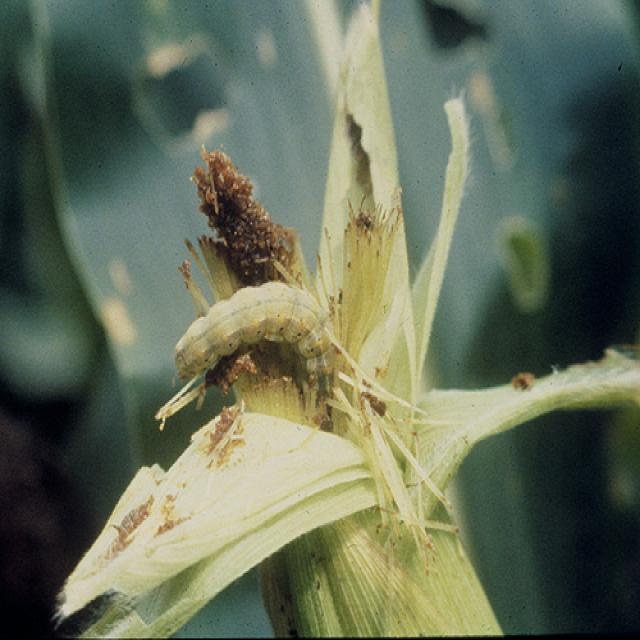Corn-earworm: (181, 279, 340, 418)
